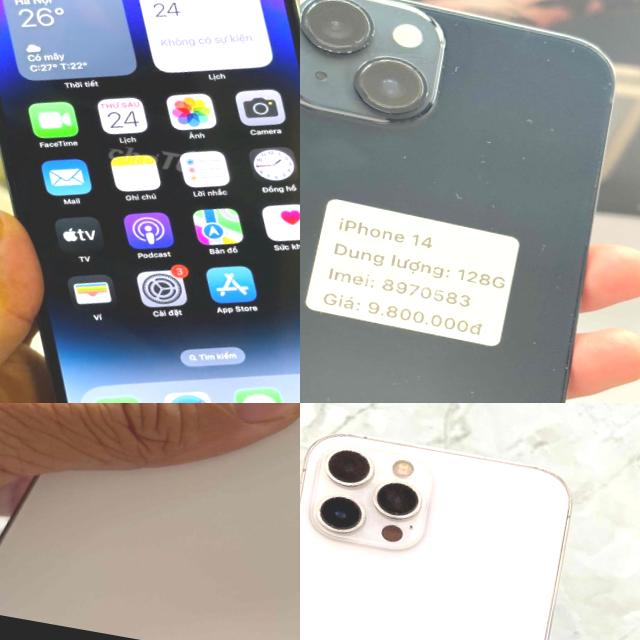gen_12_13: (300, 420, 586, 640)
gen_14: (300, 0, 640, 403), (0, 0, 300, 403)
gen_15: (0, 403, 300, 640)
